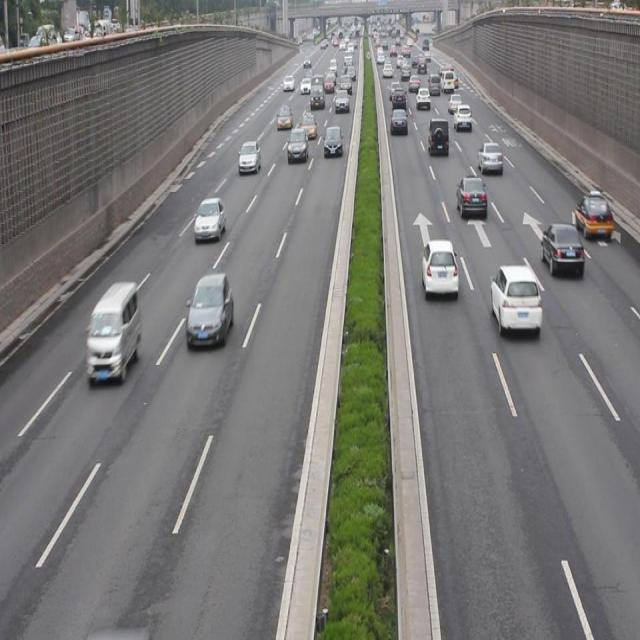car: (185, 272, 232, 350), (489, 263, 541, 331), (540, 222, 583, 276), (421, 238, 457, 295), (574, 191, 613, 239), (193, 196, 226, 242), (455, 174, 486, 220), (476, 139, 501, 174), (237, 139, 261, 175), (427, 118, 449, 156), (286, 127, 308, 162), (322, 124, 342, 158), (390, 107, 408, 135), (298, 112, 316, 140), (453, 104, 471, 130), (275, 104, 292, 130)
truck: (86, 280, 140, 381)
